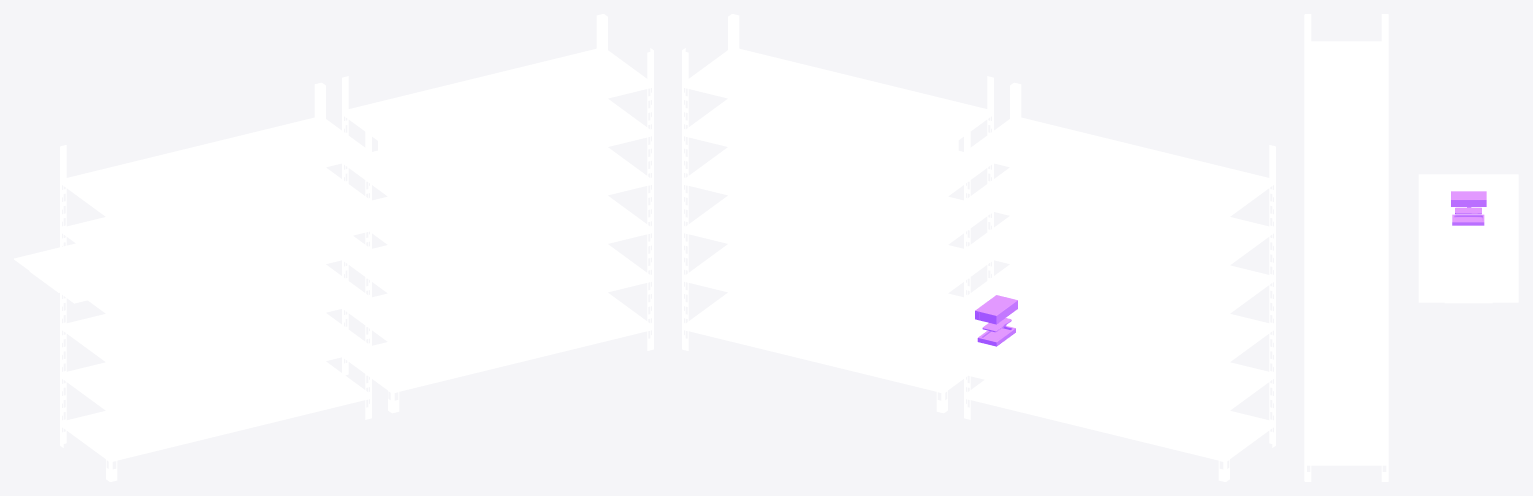
The model's file is postponement-draco.gltf.
The picture shows the model from 3 angles, left to right: view 1: azimuth 30°, elevation 25°; view 2: azimuth 150°, elevation 25°; view 3: azimuth 270°, elevation 25°; orthographic projection. The views are drawn at different scales.
Visible parts, largest first — view 1: shelve 8 (×2), Cube (×2), Cube.6 (×2), Cube.1 (×2), Cube.5, vynil, metal-a; view 2: shelve 8 (×2), vynil, metal-a, metal-b, Cube (×2), Cube.1 (×2), Cube.6 (×2), Cube.5, box half, box3, box 2, box 1; view 3: shelve 8 (×2), vynil, metal-a, metal-b, box half, box 1, box3, box 2, box holder.
Boxes of the visible parts, x1,y1,x2,y2 form: shelve 8 (×2): (60, 14, 653, 481); Cube (×2): (185, 167, 527, 278); Cube.6 (×2): (218, 255, 560, 367); Cube.1 (×2): (214, 138, 444, 222); Cube.5: (494, 110, 560, 154); vynil: (29, 213, 352, 292); metal-a: (14, 243, 90, 270); shelve 8 (×2): (682, 14, 1275, 481); vynil: (816, 306, 1158, 400); metal-a: (800, 322, 1129, 411); metal-b: (850, 289, 1174, 378); Cube (×2): (809, 167, 1151, 278); Cube.1 (×2): (892, 138, 1121, 221); Cube.6 (×2): (775, 255, 1117, 349); Cube.5: (775, 110, 842, 153); box half: (975, 295, 1017, 324); box3: (926, 321, 967, 349); box 2: (877, 309, 917, 337); box 1: (825, 296, 865, 324); shelve 8 (×2): (1304, 14, 1388, 481); vynil: (1444, 174, 1492, 303); metal-a: (1492, 174, 1518, 302); metal-b: (1418, 174, 1444, 302); box half: (1451, 191, 1486, 206); box 1: (1451, 283, 1485, 298); box3: (1451, 242, 1485, 257); box 2: (1451, 263, 1485, 277); box holder: (1452, 214, 1484, 225).
Size of the model in its own units: 512 by 268 by 210.
